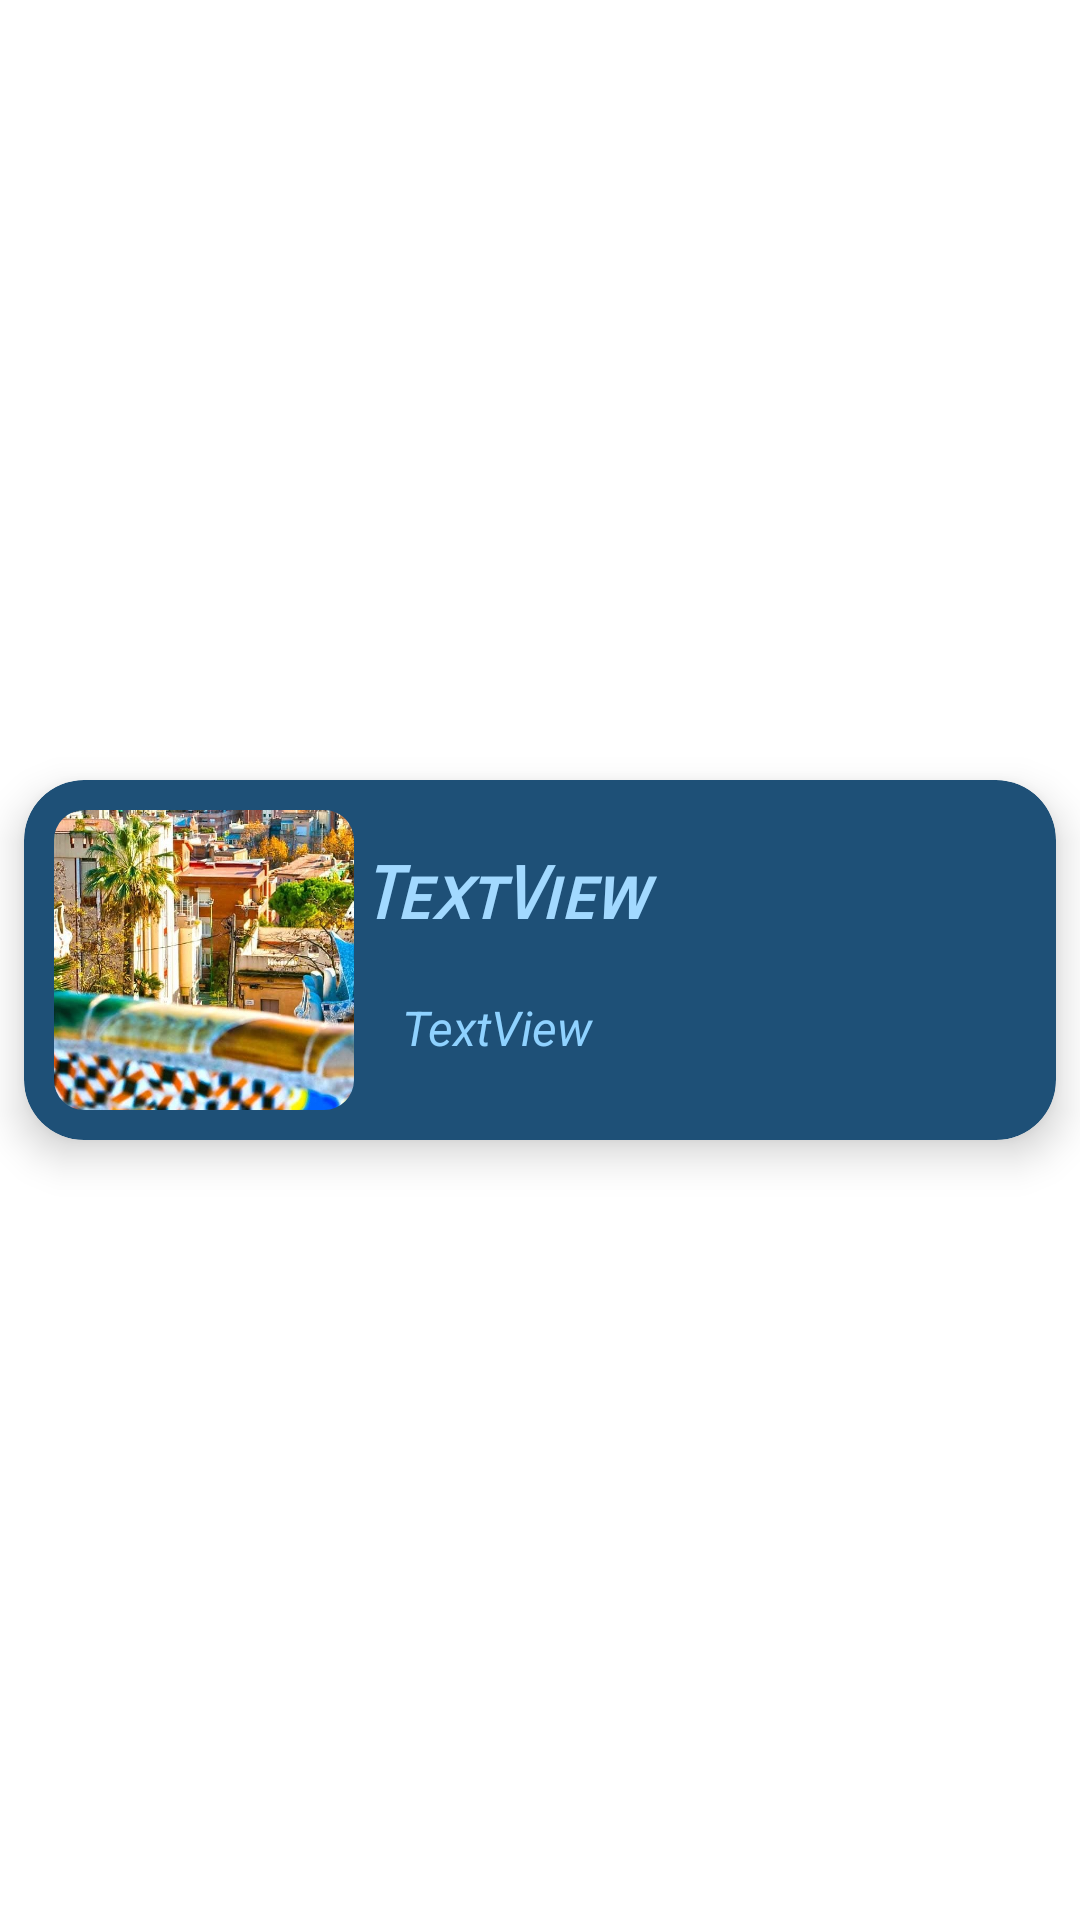

Named icons in this screenshot (1080w x 1920h) and their bounding boxes, detection(x1, y1, x2, y2):
barcelona: detection(54, 810, 354, 1110)
